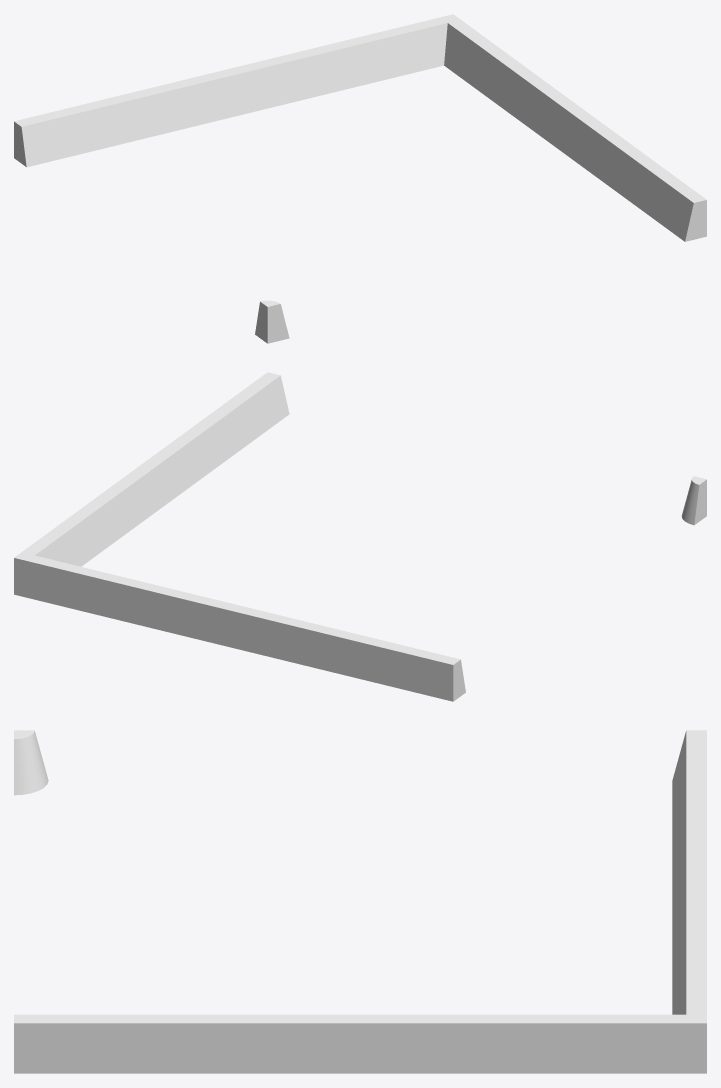
Rendered from road-bend-square-barrier.draco.glb.
The picture shows the model from 3 angles, top to bottom: view 1: azimuth 30°, elevation 25°; view 2: azimuth 150°, elevation 25°; view 3: azimuth 270°, elevation 25°; orthographic projection. The views are drawn at different scales.
Visible parts, largest first — view 1: road-bend-square-barrier; view 2: road-bend-square-barrier; view 3: road-bend-square-barrier.
Boxes of the visible parts, bbox=[...] form: road-bend-square-barrier: bbox=[14, 14, 706, 343]; road-bend-square-barrier: bbox=[14, 372, 706, 701]; road-bend-square-barrier: bbox=[14, 730, 706, 1073].
Bounding box in the file's own units: 1 × 0.08 × 1.
Materials: 1 (1 with a texture image).
